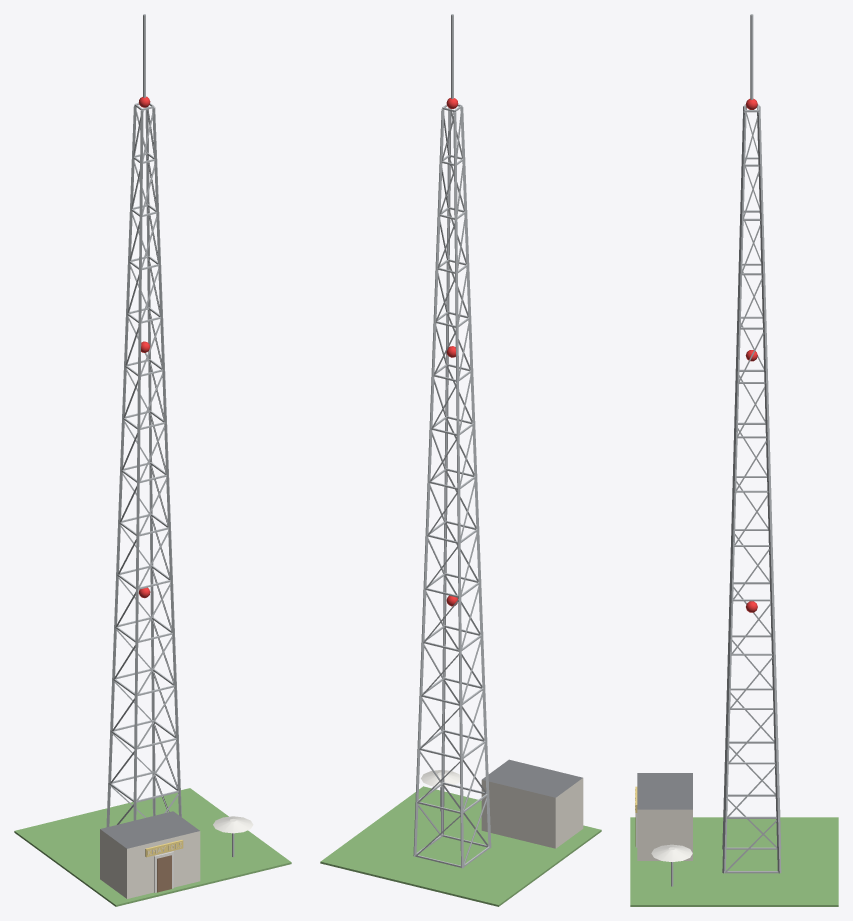
Rendered from radio_tower.glb.
3 views of the same model, side by side, from view 1: azimuth 30°, elevation 25°; view 2: azimuth 150°, elevation 25°; view 3: azimuth 270°, elevation 25° (orthographic). The views are drawn at different scales.
Parts seen in each view (by area): view 1: radio_tower; view 2: radio_tower; view 3: radio_tower.
Part boxes in pixels (x1=…): radio_tower: x1=14, y1=14, x2=291, y2=906; radio_tower: x1=320, y1=14, x2=601, y2=906; radio_tower: x1=630, y1=14, x2=838, y2=906.
Bounding box in the file's own units: 12 × 54 × 12.
